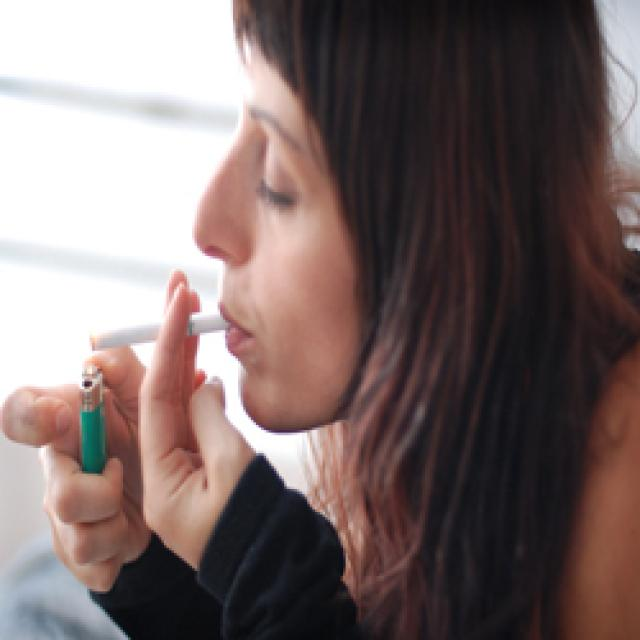Smooking: (78, 302, 230, 359)
